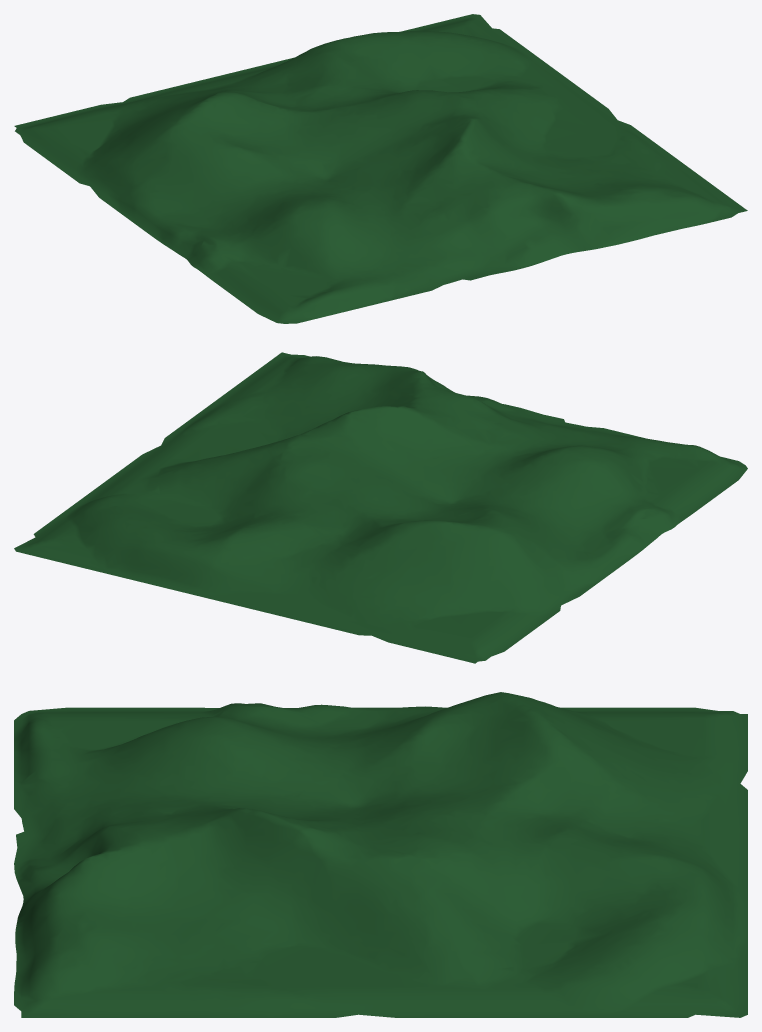
Rendered from Hills_Large_1.fbx.
3 renders of one model, top to bottom at view 1: azimuth 30°, elevation 25°; view 2: azimuth 150°, elevation 25°; view 3: azimuth 270°, elevation 25°, orthographic. The views are drawn at different scales.
Visible parts, largest first — view 1: Hills_Large_1_LOD0; view 2: Hills_Large_1_LOD0; view 3: Hills_Large_1_LOD0.
Boxes of the visible parts, box(x1,y1,x2,y2) form: Hills_Large_1_LOD0: box(14, 14, 747, 323); Hills_Large_1_LOD0: box(14, 352, 747, 663); Hills_Large_1_LOD0: box(14, 692, 747, 1017).
Size of what is drawn, in the model's own units: 980 by 117 by 980.
